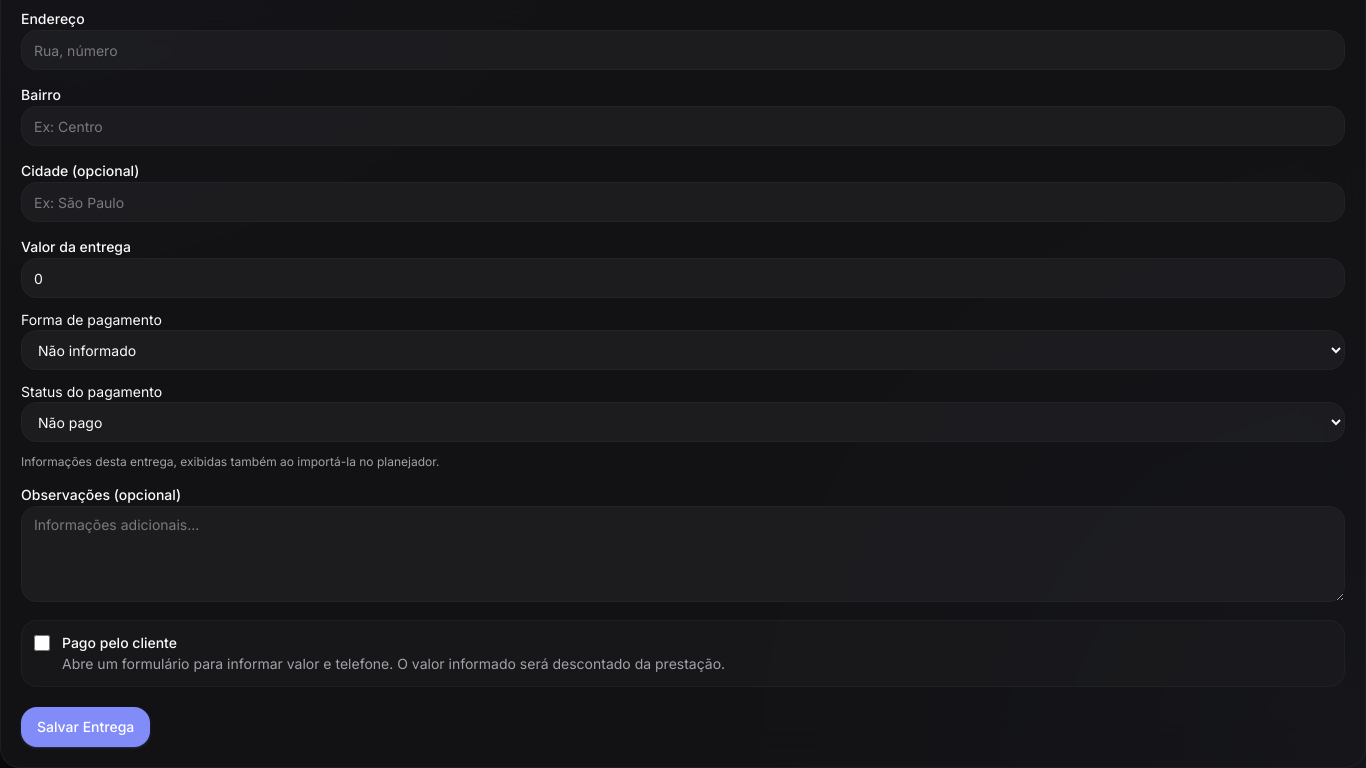
it: DeliveryMotoboyForm › exibe erros de validação ao enviar formulário vazio
(page scrolled)
Click the button "Salvar Entrega" at [86, 726], box x1=21 y1=706 x2=150 y2=746
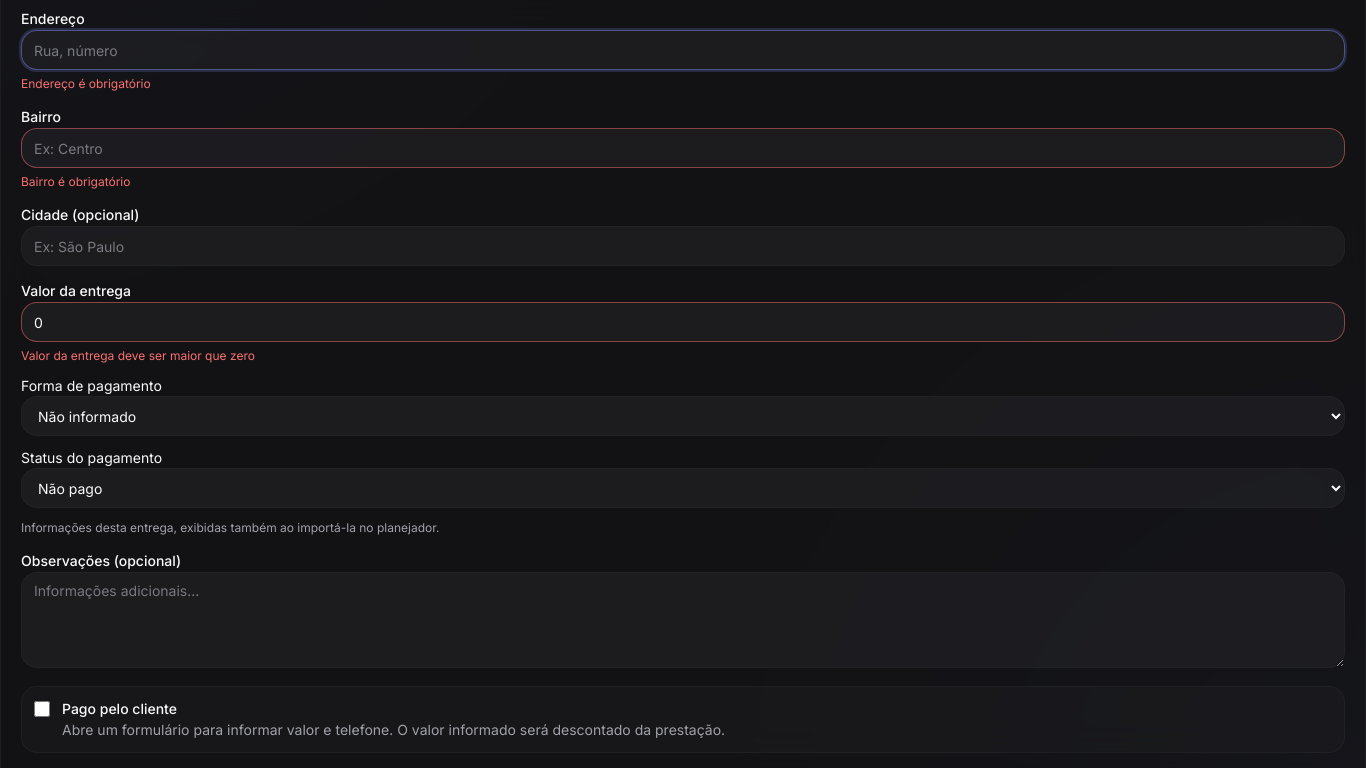
Check: the text "Endereço é obrigatório" is shown, box x1=21 y1=76 x2=151 y2=91
Check: the text "Bairro é obrigatório" is shown, box x1=21 y1=174 x2=130 y2=189
